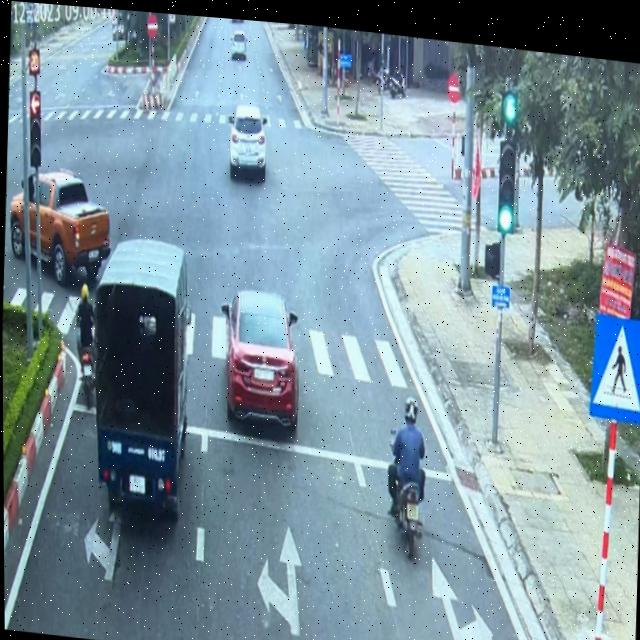Green: (493, 80, 520, 229)
